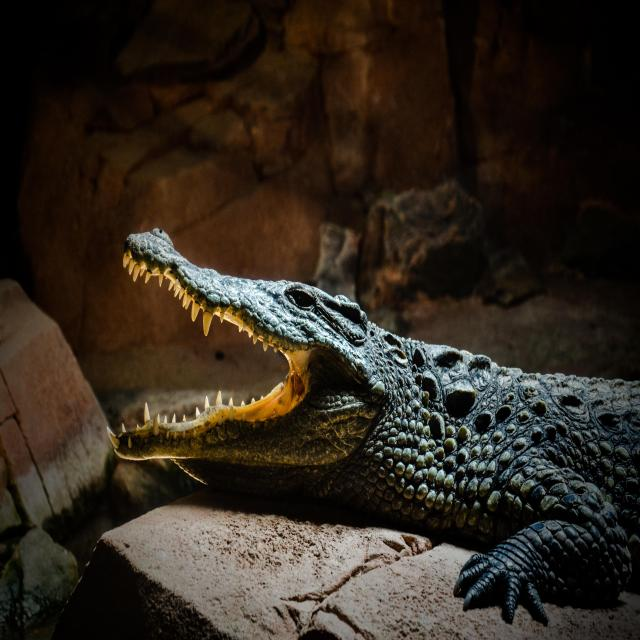crocodile: (116, 229, 637, 608)
